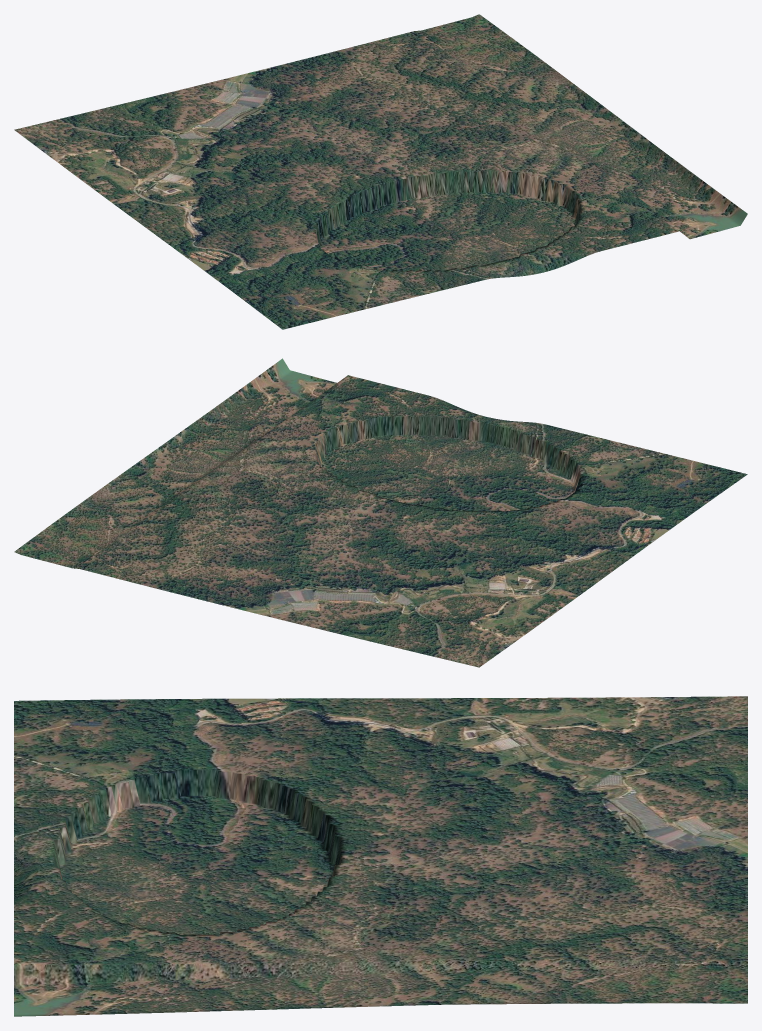
The model's file is terrain_real_T_W04_N05.glb.
3 renders of one model, top to bottom at view 1: azimuth 30°, elevation 25°; view 2: azimuth 150°, elevation 25°; view 3: azimuth 270°, elevation 25°, orthographic. The views are drawn at different scales.
Parts seen in each view (by area): view 1: Terrain_Real_DEM_T_W04_N05; view 2: Terrain_Real_DEM_T_W04_N05; view 3: Terrain_Real_DEM_T_W04_N05.
Boxes of the visible parts, x1,y1,x2,y2 form: Terrain_Real_DEM_T_W04_N05: (14,14,747,329); Terrain_Real_DEM_T_W04_N05: (14,358,747,667); Terrain_Real_DEM_T_W04_N05: (14,696,747,1016).
Size of the model in its own units: 2000 by 82.91 by 2000.
Materials: 1 (1 with a texture image).
